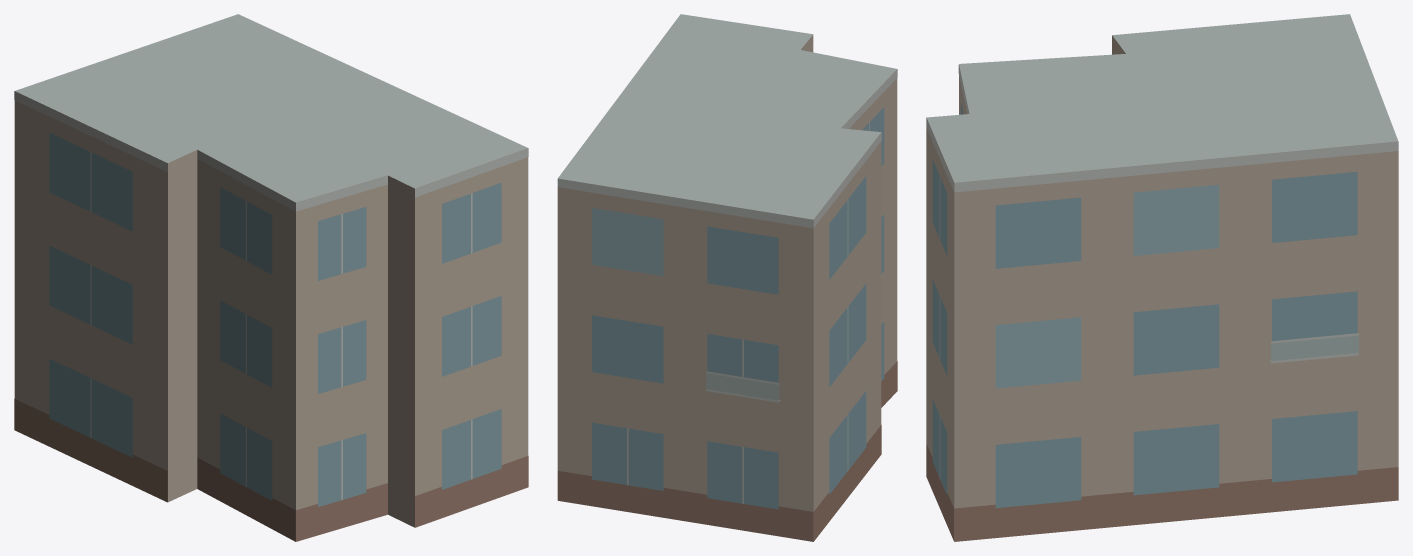
The model's file is survey-upis-32783813.glb.
The picture shows the model from 3 angles, left to right: view 1: azimuth 30°, elevation 25°; view 2: azimuth 150°, elevation 25°; view 3: azimuth 270°, elevation 25°; orthographic projection. The views are drawn at different scales.
Visible parts, largest first — view 1: survey-upis-32783813.tmp; view 2: survey-upis-32783813.tmp; view 3: survey-upis-32783813.tmp.
Boxes of the visible parts, <box> form: survey-upis-32783813.tmp: <box>14,14,528,541</box>; survey-upis-32783813.tmp: <box>557,14,897,541</box>; survey-upis-32783813.tmp: <box>926,14,1398,541</box>.
Size of the model in its own units: 9.24 by 9.15 by 10.92.
